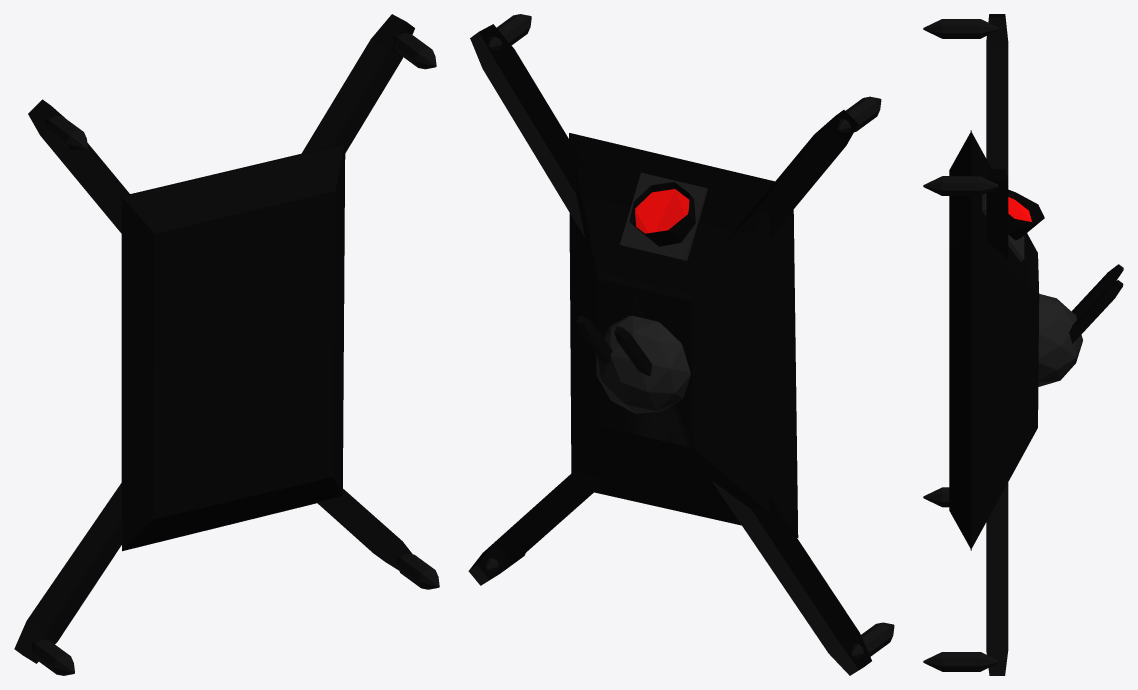
The model's file is Volador.obj.
3 renders of one model, left to right at view 1: azimuth 30°, elevation 25°; view 2: azimuth 150°, elevation 25°; view 3: azimuth 270°, elevation 25°, orthographic. The views are drawn at different scales.
Parts seen in each view (by area): view 1: Cylinder.081; view 2: Cylinder.081; view 3: Cylinder.081.
Boxes of the visible parts, bbox=[...] form: Cylinder.081: bbox=[14, 14, 439, 675]; Cylinder.081: bbox=[468, 14, 894, 675]; Cylinder.081: bbox=[923, 14, 1123, 675].
Bounding box in the file's own units: 0.8285 × 1.11 × 0.4003.
